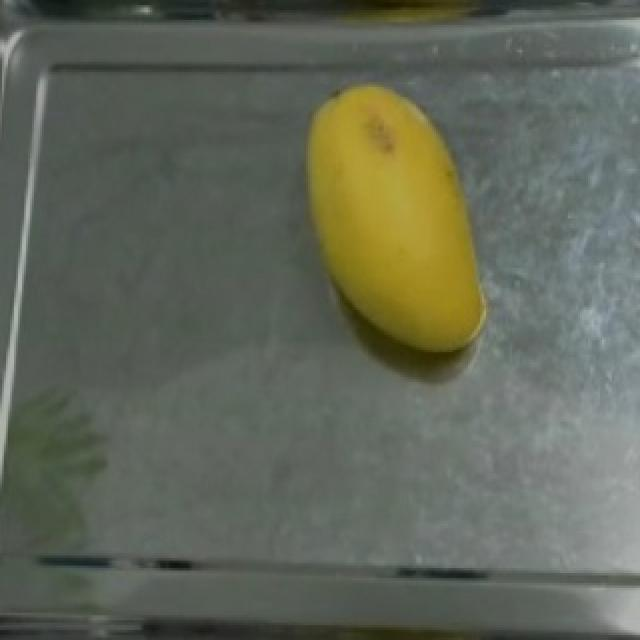fruit: (278, 67, 502, 377)
